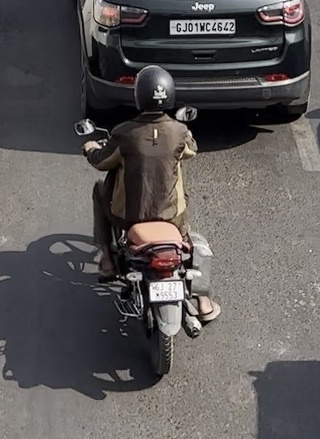BikeWithRider: (71, 62, 220, 377)
Helmet: (131, 64, 178, 115)
